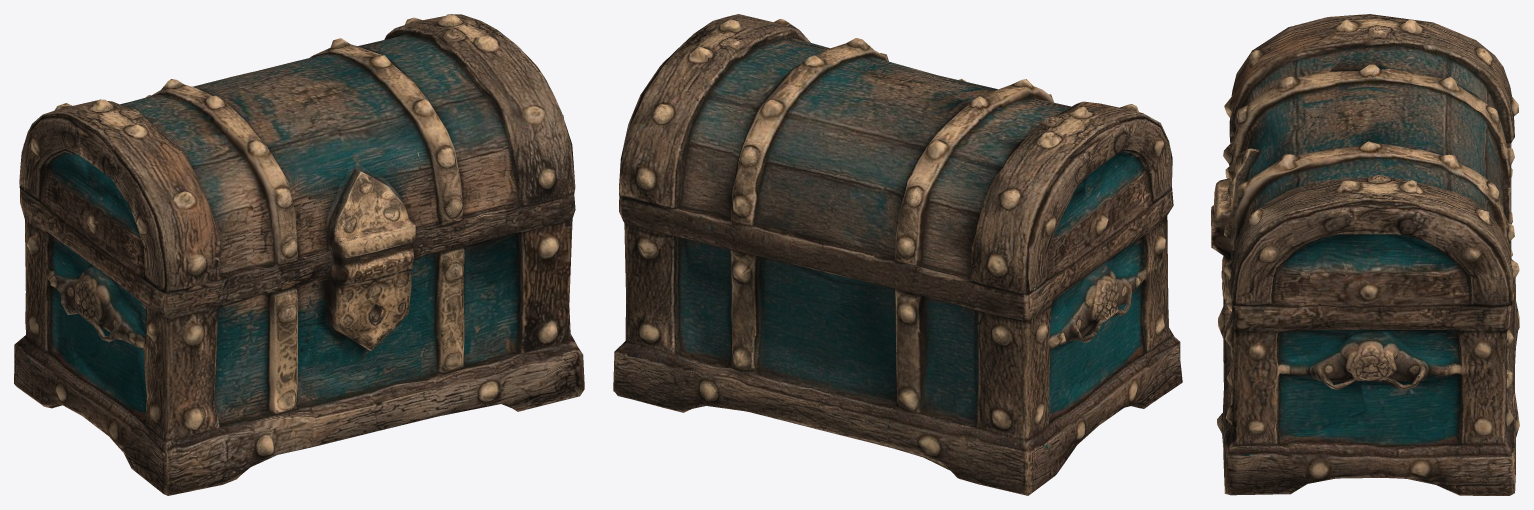
The picture shows the model from 3 angles, left to right: view 1: azimuth 30°, elevation 25°; view 2: azimuth 150°, elevation 25°; view 3: azimuth 270°, elevation 25°; orthographic projection. The views are drawn at different scales.
Parts seen in each view (by area): view 1: variant_0; view 2: variant_0; view 3: variant_0.
Part boxes in pixels (left/top/right/bottom): variant_0: left=14, top=14, right=584, bottom=495; variant_0: left=613, top=14, right=1182, bottom=495; variant_0: left=1211, top=14, right=1519, bottom=495.
Size of the model in its own units: 0.8904 by 0.6371 by 0.5872.
1 material, 1 textured.
